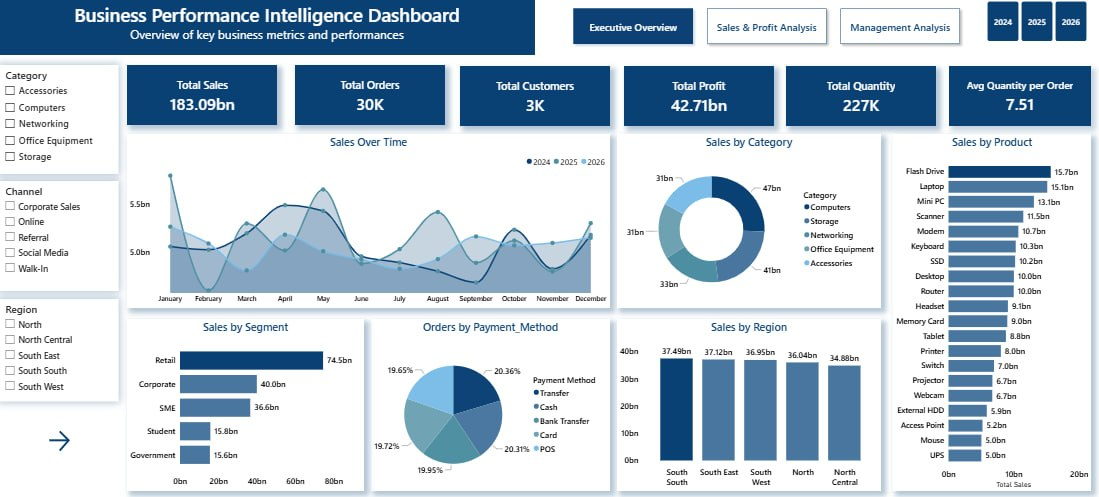

What the dashboard file says about the page in this screenshot:
{"tool":"powerbi","page":{"name":"Executive Overview","canvas":[2200,1000],"ordinal":0},"visuals":[{"type":"cardVisual","fields":{"Data":["Dim_Customers.Total Net Sales"]},"box":[255.4,132.1,300,120],"z":0},{"type":"cardVisual","fields":{"Data":["Dim_Customers.Total Quantity"]},"box":[1574,134,300,120],"z":1000},{"type":"cardVisual","fields":{"Data":["Dim_Customers.Total Customers"]},"box":[921.4,133.9,300,120],"z":2000},{"type":"cardVisual","fields":{"Data":["Dim_Customers.Total Orders"]},"box":[592.9,132.1,300,120],"z":3000},{"type":"textbox","box":[0,0,1072,112],"z":4000},{"type":"cardVisual","fields":{"Data":["Dim_Customers.Total Profit"]},"box":[1250,134,300,120],"z":5000},{"type":"advancedSlicerVisual","fields":{"Values":["Dim_Date.Year"]},"box":[1951.9,0,248.2,89.3],"z":6000},{"type":"lineChart","title":"Sales Over Time ","fields":{"Y":["Dim_Customers.Total Sales"],"Category":["Dim_Date.Month_Name"],"Series":["Dim_Date.Year"]},"box":[256,270,966,348],"z":7000},{"type":"slicer","fields":{"Values":["Dim_Products.Category"]},"box":[0,132.1,239.3,217.9],"z":8000},{"type":"slicer","fields":{"Values":["Dim_Customers.Region"]},"box":[0,600,239.3,205.4],"z":9000},{"type":"slicer","fields":{"Values":["Fact_Sales.Channel"]},"box":[0,364.3,239.3,219.6],"z":10000},{"type":"donutChart","title":"Sales by Category","fields":{"Y":["Dim_Customers.Total Sales"],"Category":["Dim_Products.Category"]},"box":[1236,270,528,348],"z":11000},{"type":"pieChart","title":"Orders by Payment_Method","fields":{"Category":["Fact_Sales.Payment_Method"],"Y":["Dim_Customers.Total Orders"]},"box":[744,640,478,344],"z":12000},{"type":"barChart","title":"Sales by Segment","fields":{"Y":["Dim_Customers.Total Sales"],"Category":["Dim_Customers.Segment"]},"box":[256,640,474,344],"z":13000},{"type":"columnChart","title":"Sales by Region","fields":{"Category":["Dim_Customers.Region"],"Y":["Dim_Customers.Total Sales"]},"box":[1236,640,528,344],"z":14000},{"type":"barChart","title":"Sales by Product","fields":{"Category":["Dim_Products.Product_Name"],"Y":["Dim_Customers.Total Sales"]},"box":[1788,270,396,714],"z":15000},{"type":"pageNavigator","box":[1140,10,792.9,89.3],"z":16000},{"type":"actionButton","box":[70,858,100,52],"z":17000},{"type":"cardVisual","fields":{"Data":["Dim_Customers.Average Quantity per Order"]},"box":[1900,134,284,120],"z":18000}]}

Visuals, with their boxes in screenshot pixels (x1, y1, x2, y2), scaled from the page's 2200x1000 canvas onto the 1099x497 screenshot:
cardVisual - Dim_Customers.Total Net Sales: bbox(128, 66, 277, 125)
cardVisual - Dim_Customers.Total Quantity: bbox(786, 67, 936, 126)
cardVisual - Dim_Customers.Total Customers: bbox(460, 67, 610, 126)
cardVisual - Dim_Customers.Total Orders: bbox(296, 66, 446, 125)
textbox: bbox(0, 0, 536, 56)
cardVisual - Dim_Customers.Total Profit: bbox(624, 67, 774, 126)
advancedSlicerVisual - Dim_Date.Year: bbox(975, 0, 1098, 44)
"Sales Over Time " lineChart: bbox(128, 134, 610, 307)
slicer - Dim_Products.Category: bbox(0, 66, 120, 174)
slicer - Dim_Customers.Region: bbox(0, 298, 120, 400)
slicer - Fact_Sales.Channel: bbox(0, 181, 120, 290)
"Sales by Category" donutChart: bbox(617, 134, 881, 307)
"Orders by Payment_Method" pieChart: bbox(372, 318, 610, 489)
"Sales by Segment" barChart: bbox(128, 318, 365, 489)
"Sales by Region" columnChart: bbox(617, 318, 881, 489)
"Sales by Product" barChart: bbox(893, 134, 1091, 489)
pageNavigator: bbox(569, 5, 966, 49)
actionButton: bbox(35, 426, 85, 452)
cardVisual - Dim_Customers.Average Quantity per Order: bbox(949, 67, 1091, 126)
